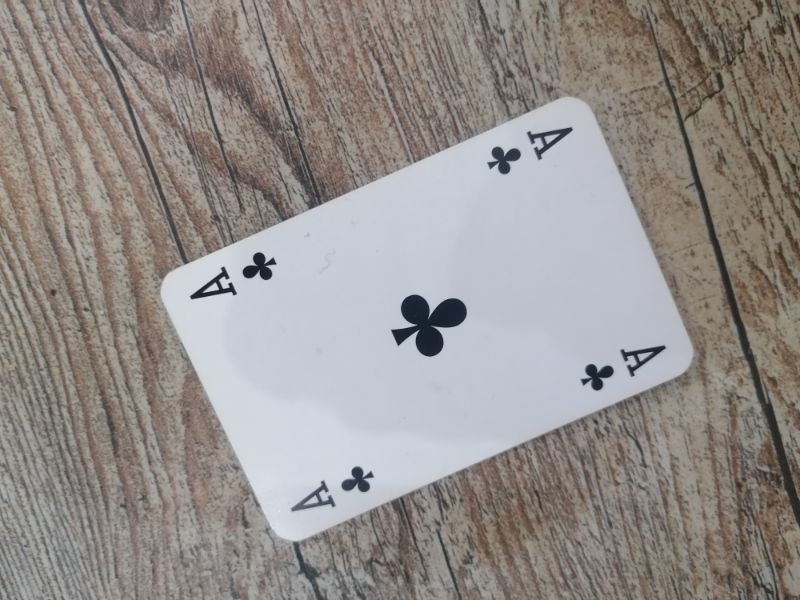Ac: (483, 119, 577, 187), (574, 339, 671, 401), (188, 248, 281, 308), (285, 463, 378, 518)
